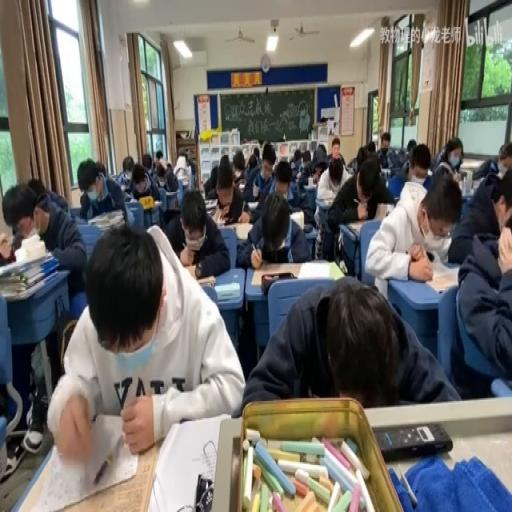calculator: (24, 411, 142, 509), (150, 412, 228, 512), (424, 260, 460, 293), (296, 260, 334, 280), (182, 262, 214, 280), (230, 219, 254, 240), (214, 282, 240, 300), (288, 209, 305, 230), (373, 202, 390, 222), (211, 205, 226, 223), (317, 192, 336, 206), (203, 196, 217, 214), (163, 202, 182, 215), (470, 176, 484, 192), (177, 175, 189, 186), (246, 201, 260, 209), (120, 188, 130, 199), (306, 176, 315, 188), (381, 168, 390, 180), (151, 198, 162, 204)
paper: (51, 219, 243, 461), (240, 273, 457, 410), (4, 175, 86, 307), (325, 151, 392, 263), (448, 162, 510, 266), (162, 186, 228, 279), (236, 184, 312, 264), (80, 155, 132, 222), (240, 146, 270, 204), (388, 142, 419, 195), (432, 135, 464, 175), (154, 156, 179, 192), (470, 156, 498, 180), (326, 138, 346, 171), (202, 161, 218, 196), (376, 131, 392, 165), (497, 141, 512, 173), (0, 229, 14, 263), (27, 176, 47, 199), (274, 162, 290, 189), (232, 150, 246, 180), (352, 144, 366, 169), (262, 150, 275, 174), (131, 172, 145, 192), (141, 152, 153, 174), (406, 136, 417, 154), (122, 158, 133, 176), (115, 171, 128, 186), (96, 160, 106, 178), (182, 151, 194, 166), (315, 142, 326, 156), (301, 150, 311, 164), (292, 148, 301, 163), (296, 162, 306, 175), (366, 141, 376, 151), (252, 148, 259, 161), (154, 151, 162, 162), (150, 158, 157, 169), (165, 161, 172, 169)
person: (374, 422, 451, 461), (261, 272, 296, 294), (194, 471, 214, 509), (138, 194, 154, 208), (237, 180, 245, 190)
